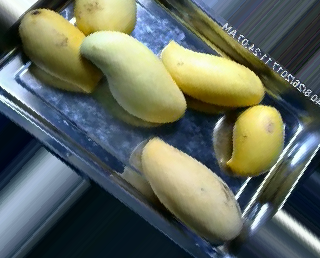Mango: (140, 139, 249, 242), (79, 29, 187, 125), (161, 37, 267, 107), (20, 7, 102, 92), (226, 105, 287, 175), (73, 0, 138, 42)
